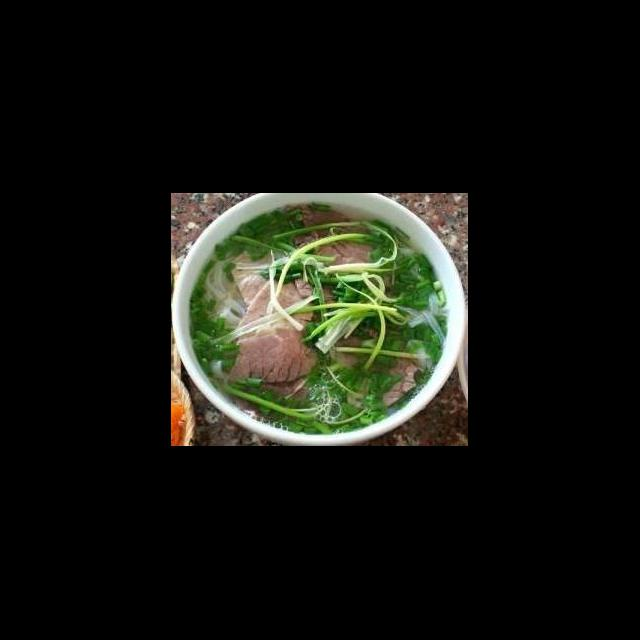banh pho: (202, 255, 248, 328)
pho bo: (172, 206, 468, 446)
thit bo: (328, 332, 427, 416), (234, 264, 320, 344), (288, 200, 378, 268), (224, 326, 322, 388)
